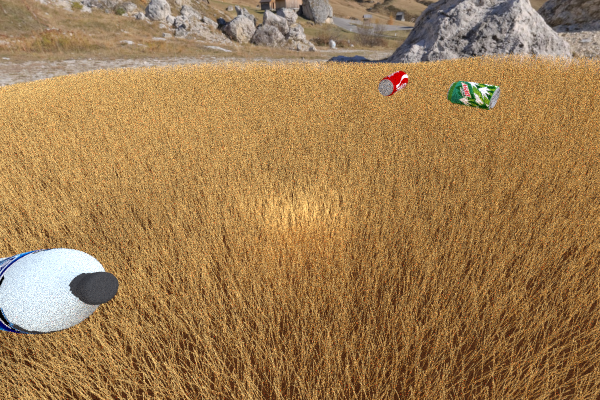bottle: (0, 248, 118, 334)
can: (446, 80, 500, 110), (378, 70, 408, 96)
